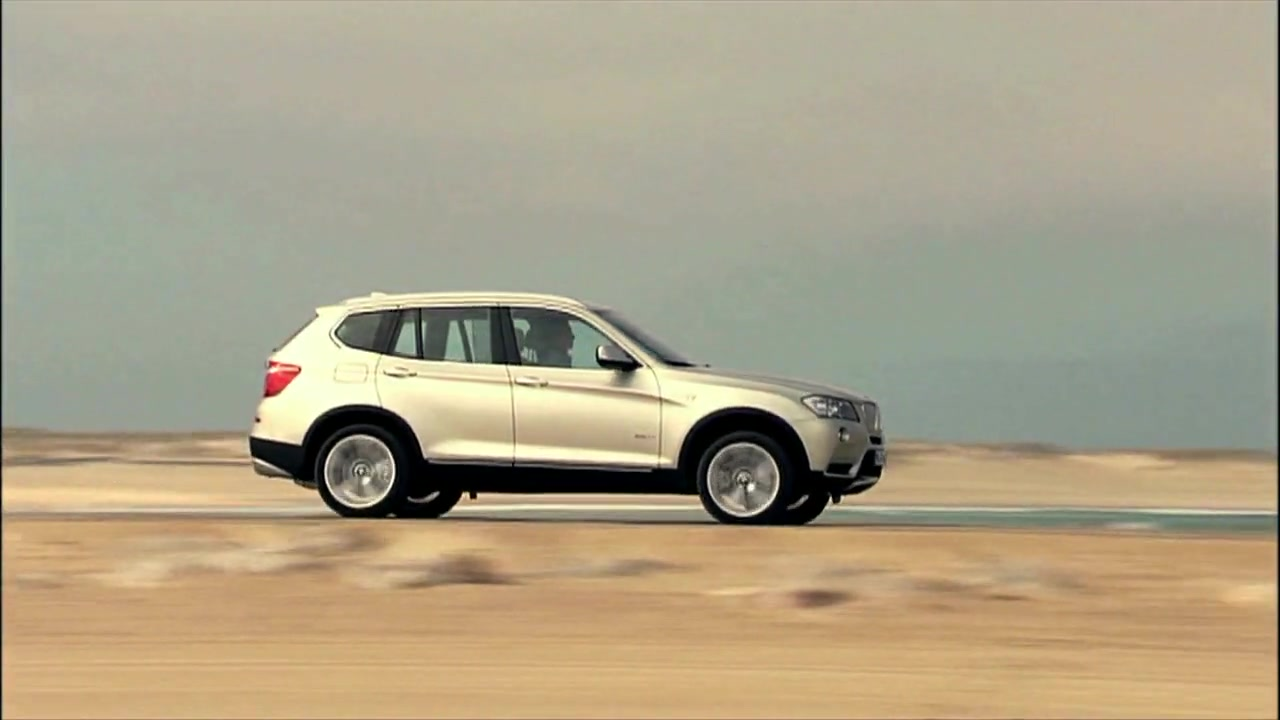car: (253, 292, 891, 531)
